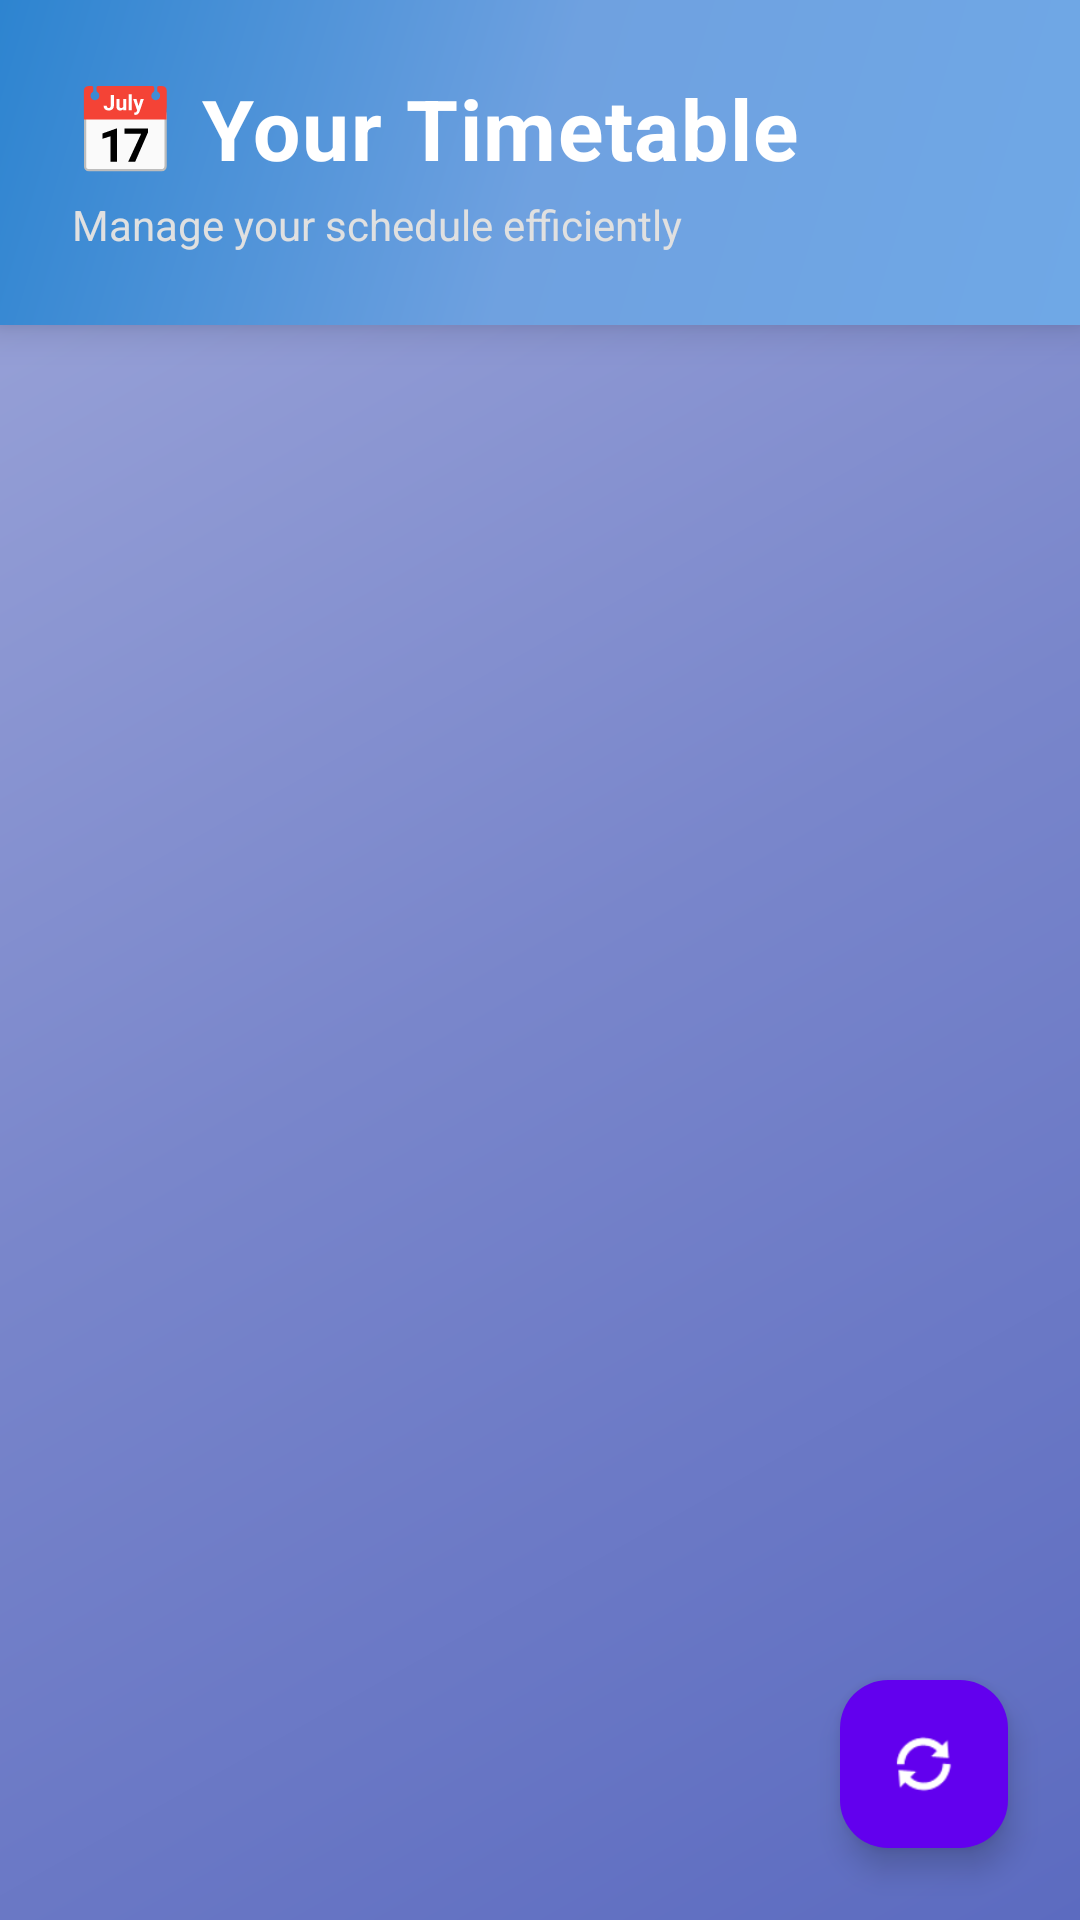

Icon click points for this 1080px x 1920px phone screenshot, format (x=x, y=y):
popup sync: (x=924, y=1764)
